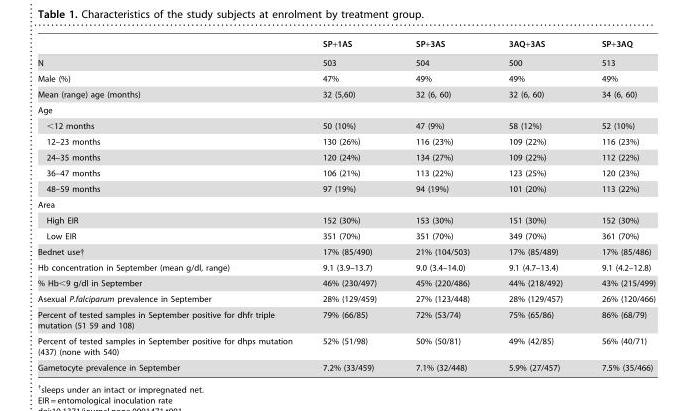table: (37, 37, 654, 371)
table column: (37, 37, 306, 371), (395, 37, 488, 371), (488, 37, 581, 371), (306, 37, 395, 371), (581, 37, 654, 371)
table column header: (37, 37, 654, 53)
table projected row header: (37, 196, 654, 212), (37, 102, 654, 117)
table row: (37, 306, 654, 333), (37, 333, 654, 359), (37, 53, 654, 70), (37, 37, 654, 53), (37, 70, 654, 86), (37, 86, 654, 102), (37, 117, 654, 133), (37, 133, 654, 149), (37, 149, 654, 165), (37, 180, 654, 196), (37, 196, 654, 212), (37, 212, 654, 228), (37, 243, 654, 259), (37, 259, 654, 275), (37, 290, 654, 306), (37, 102, 654, 117), (37, 165, 654, 180), (37, 228, 654, 243), (37, 275, 654, 290), (37, 359, 654, 371)
